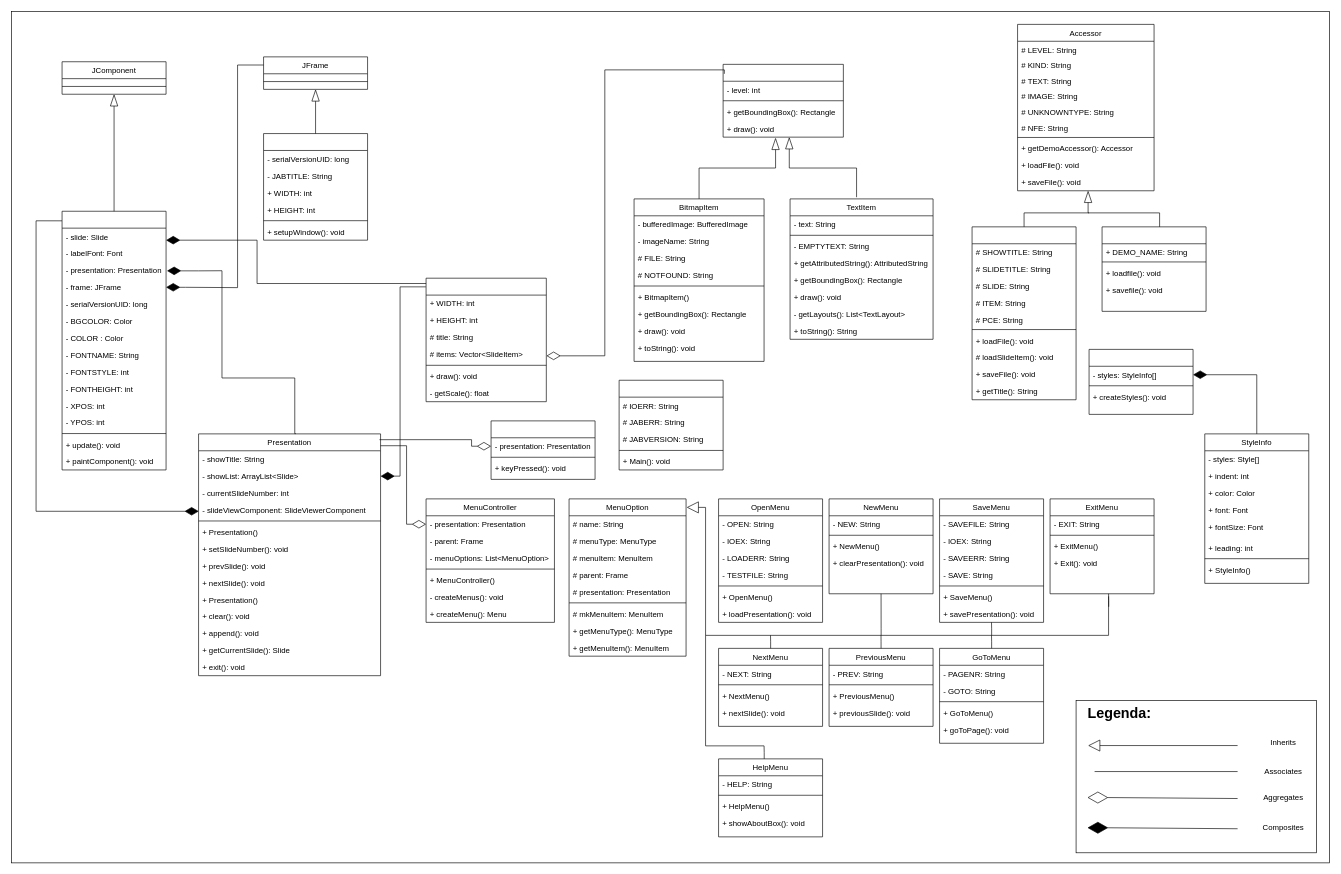
Image size: 1341x874. Some labels were removed from this diagram. Each missing label, with the box of its shape:
DemoPresentation: (1101, 226, 1206, 311)
Jabberpoint: (618, 380, 723, 470)
KeyController: (490, 420, 595, 479)
Slide: (425, 278, 546, 402)
Slideitem: (722, 64, 843, 137)
SliderViewerFrame: (263, 133, 368, 240)
SlideViewerComponent: (61, 211, 166, 470)
StyleFactory: (1088, 349, 1193, 414)
XMLAccessor: (971, 226, 1076, 400)
